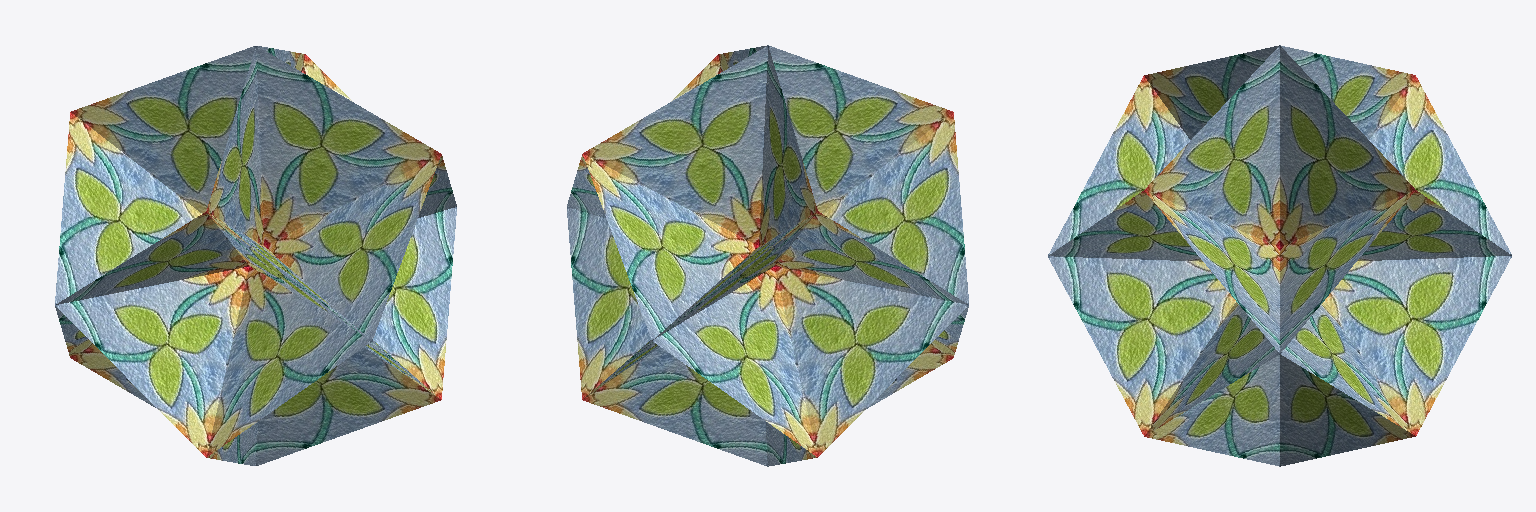
3 views of the same model, side by side, from view 1: azimuth 30°, elevation 25°; view 2: azimuth 150°, elevation 25°; view 3: azimuth 270°, elevation 25° (orthographic).
Size of the model in its own units: 2.16 by 2.16 by 2.16.
1 materials, 1 textured.